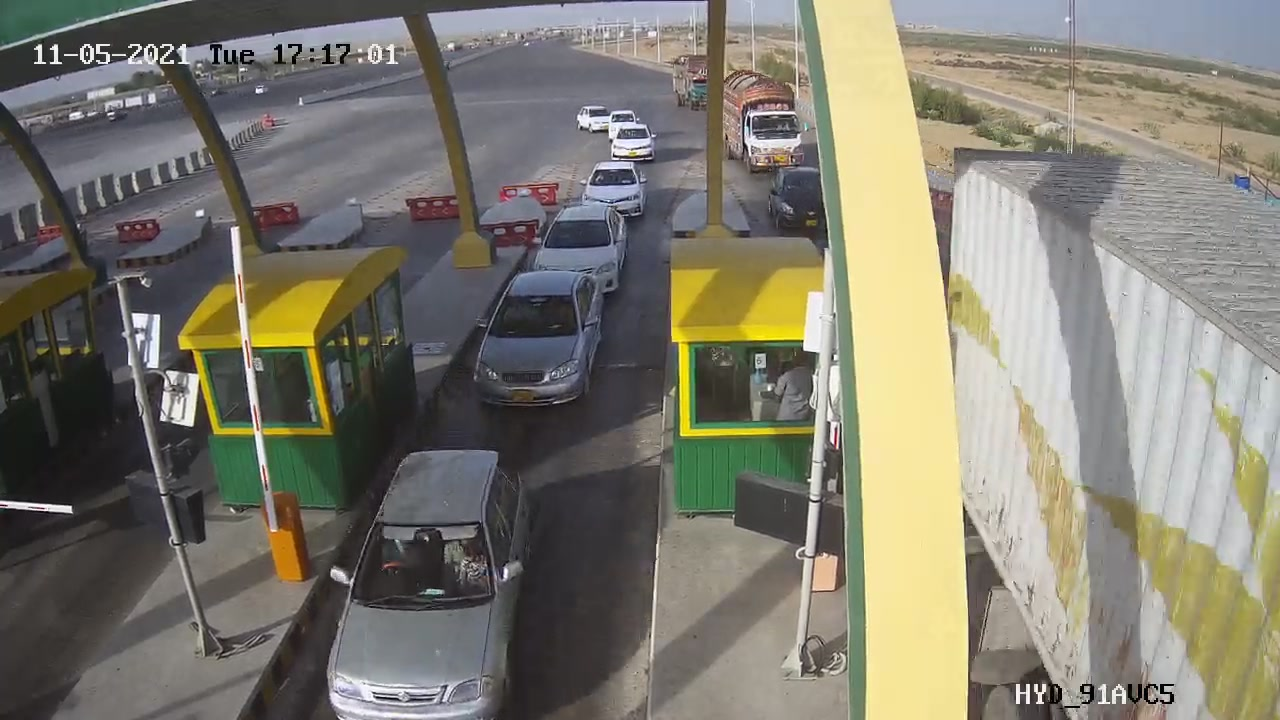F1: (453, 260, 625, 422)
